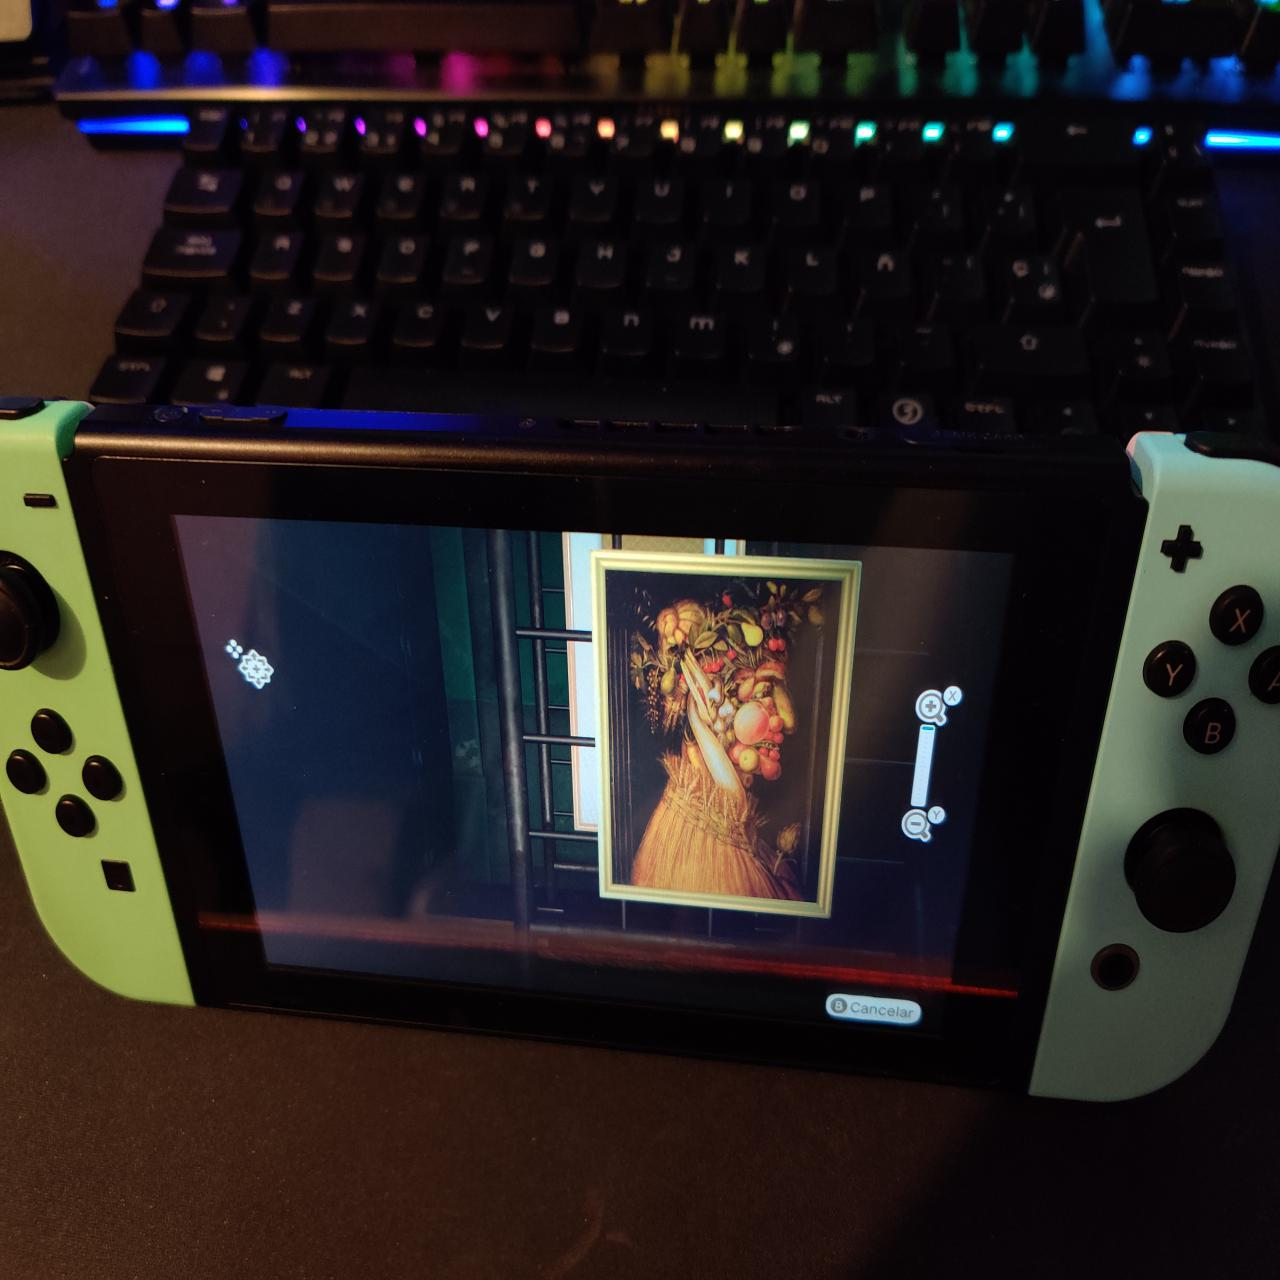Summer: (605, 568, 840, 906)
